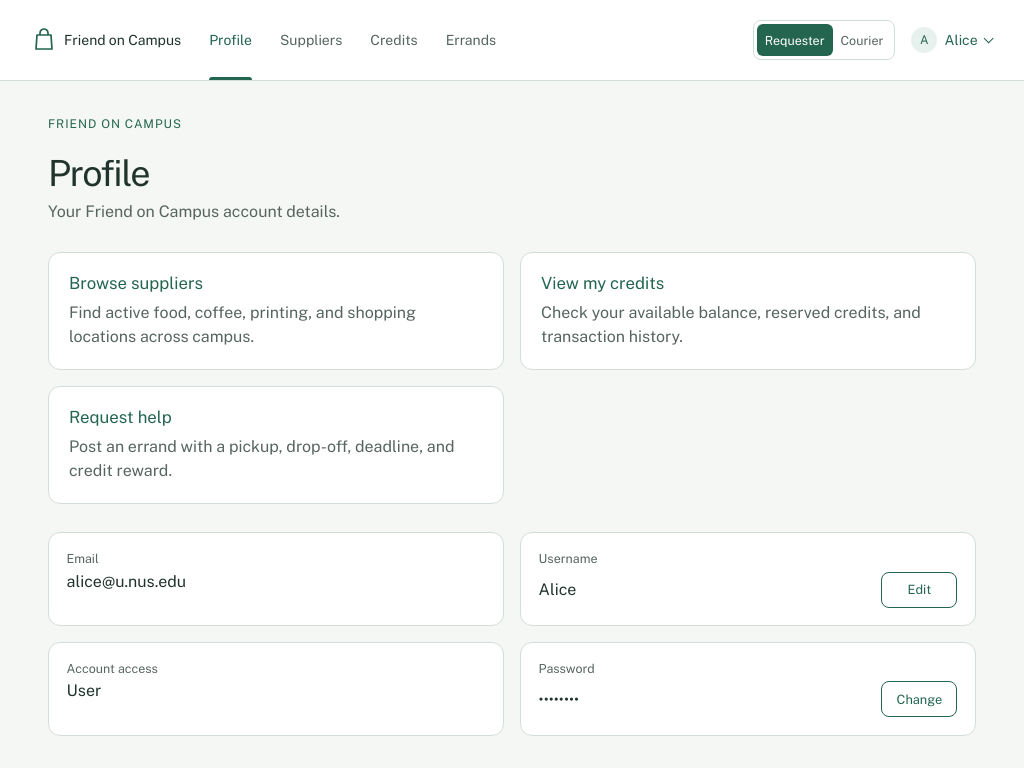
Test: uses the Requester and Courier selector to replace a session token
Expected: the heading "Profile" is shown, left=48, top=152, right=149, bottom=194
Expected: the link "Find errands to run" is not shown
Click the button "Courier" at (862, 40), box left=832, top=24, right=891, bottom=56
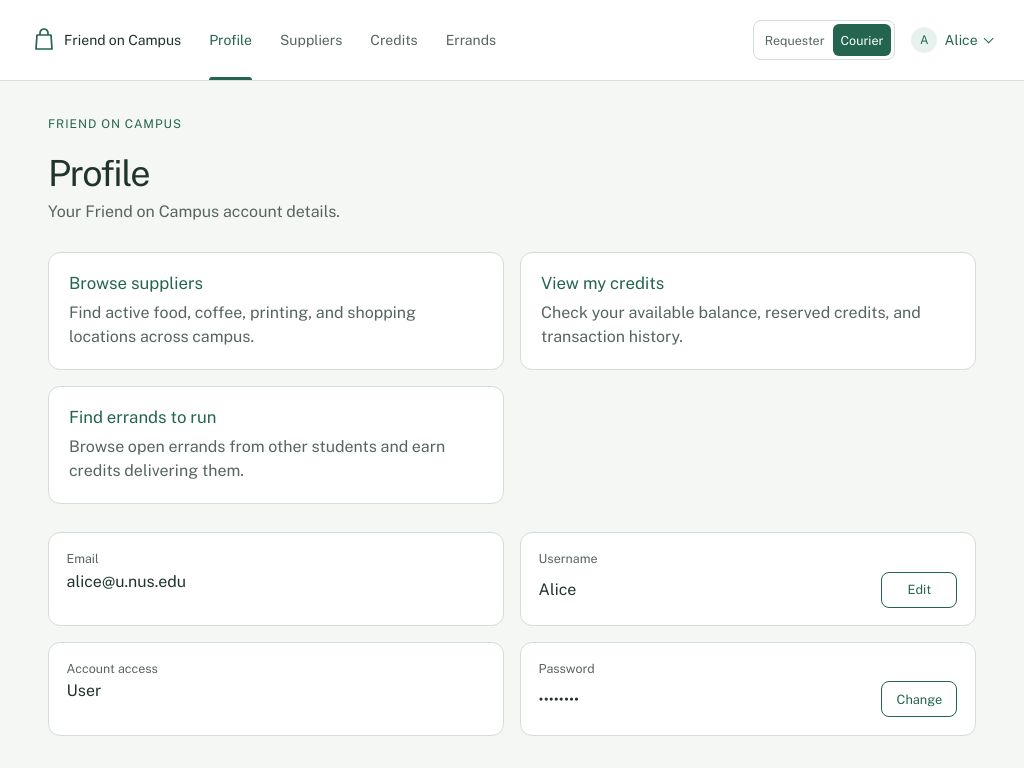
Now the link "Request help" is gone
